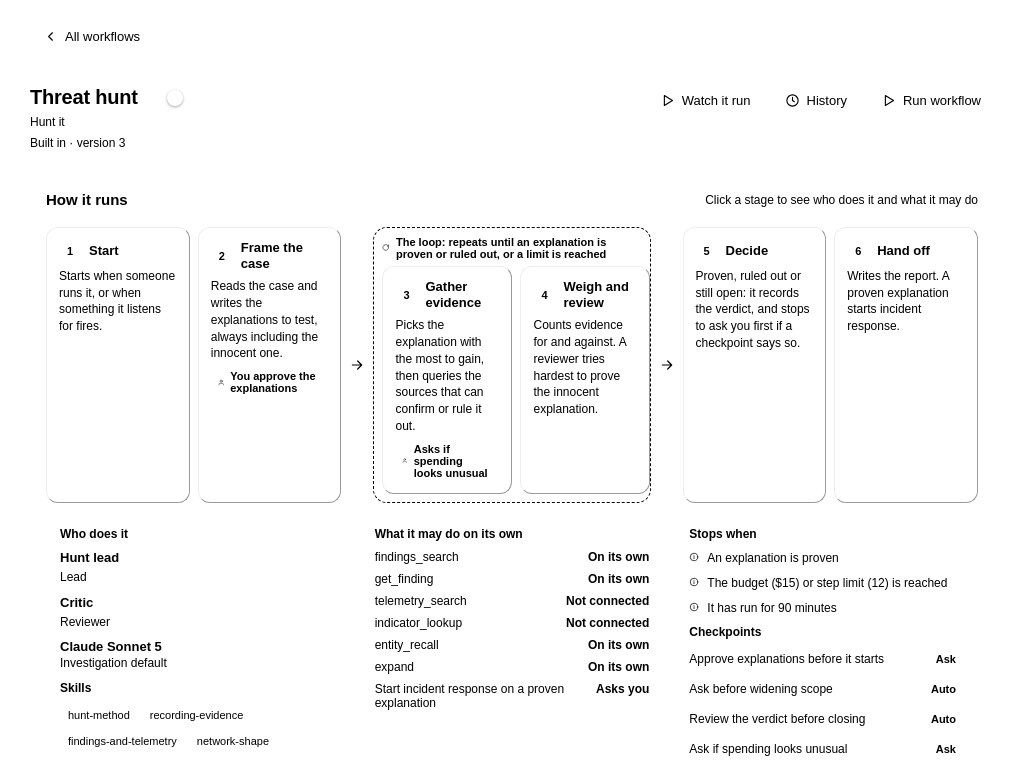
Test: the enable switch and header › says No runs yet, and stays put, when the workflow never ran
This screenshot has width=1024, height=762.
Click the button "Watch it run": (705, 100) [647,85,764,116]
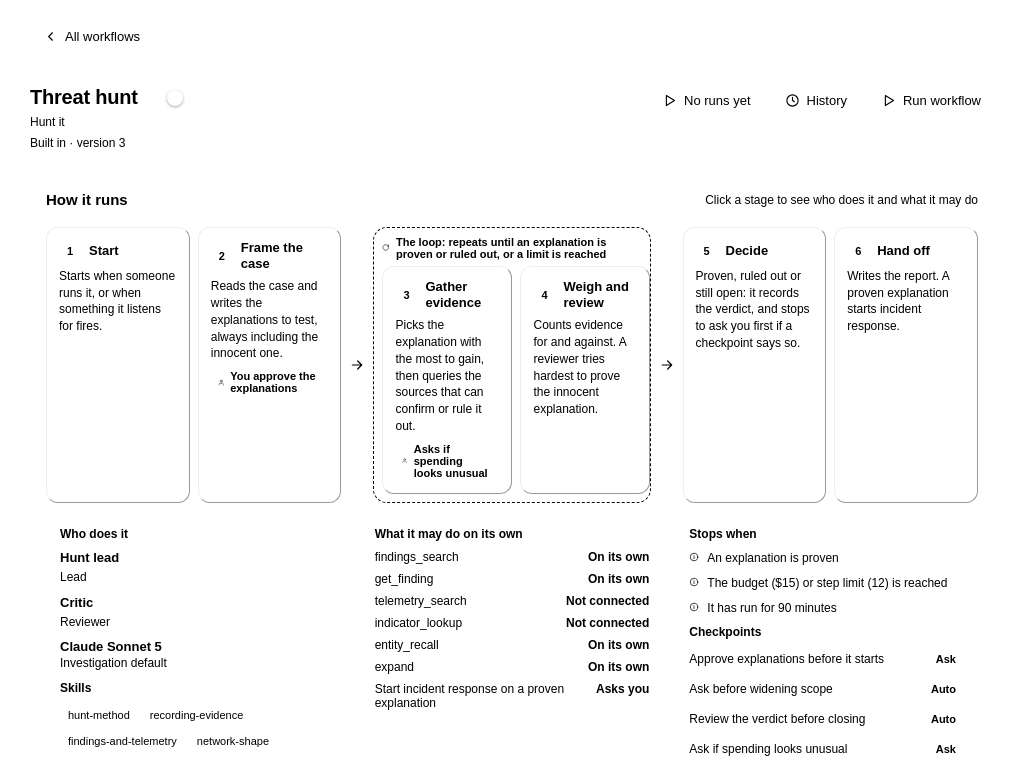
expect the button "No runs yet" is disabled: met, box [649,85,764,116]
